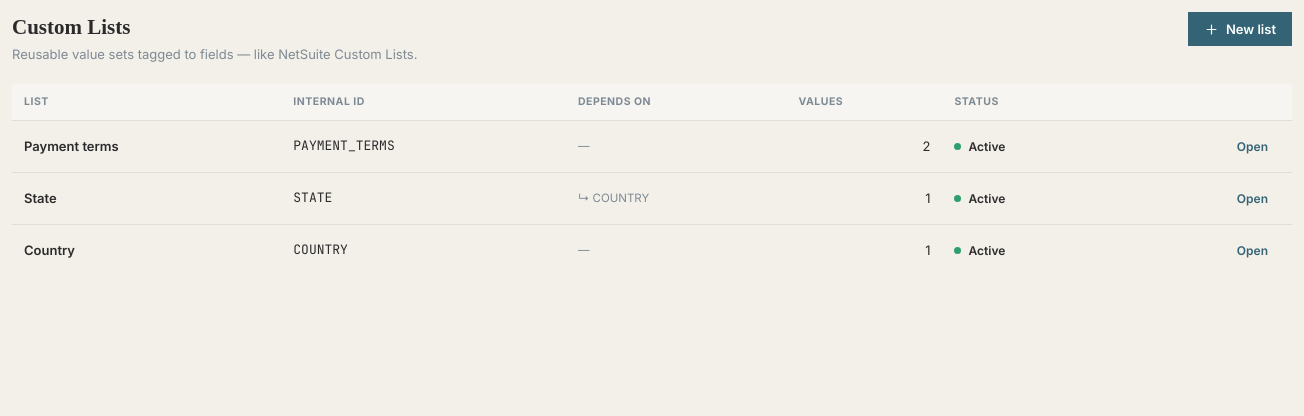
Scenario: AdminCustomLists (NetSuite-style custom lists) › a dependent list exposes the parent-value picker
The width and height of the screenshot is (1304, 416).
Check: the text "Payment terms" is shown, box [24,138,119,154]
Click the button with aria-label "Open State": (1252, 198) [1225,184,1280,212]
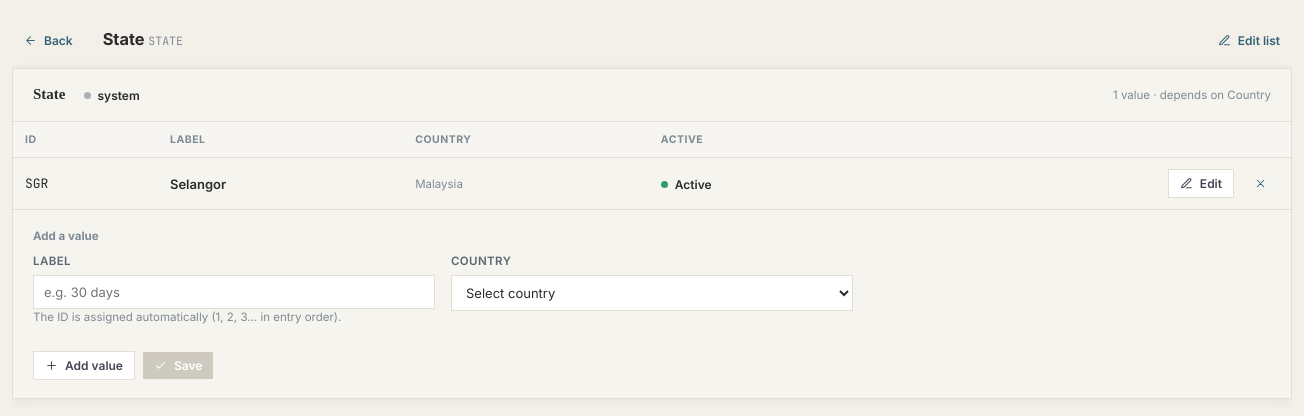
Check: the dropdown labelled "Country" is shown, box [451,275,853,311]
